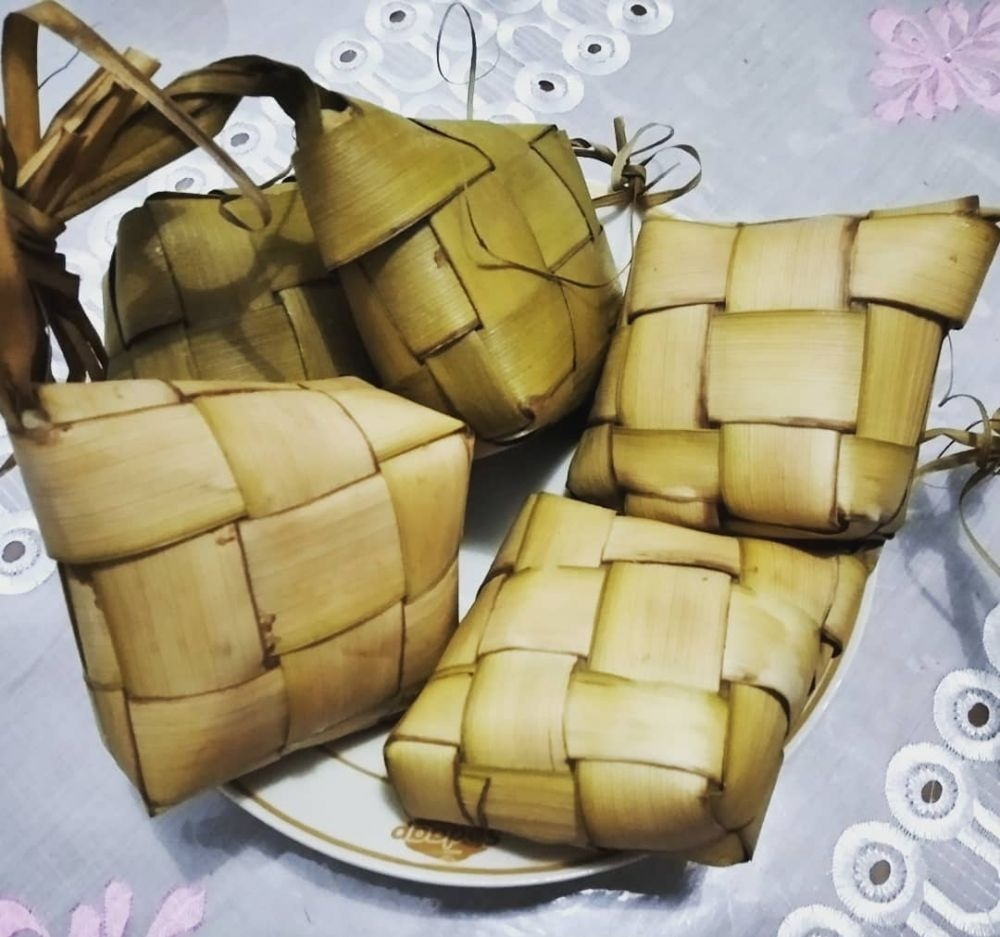ketupat: (6, 377, 473, 815), (383, 489, 871, 868), (564, 191, 998, 539), (295, 74, 621, 451)
